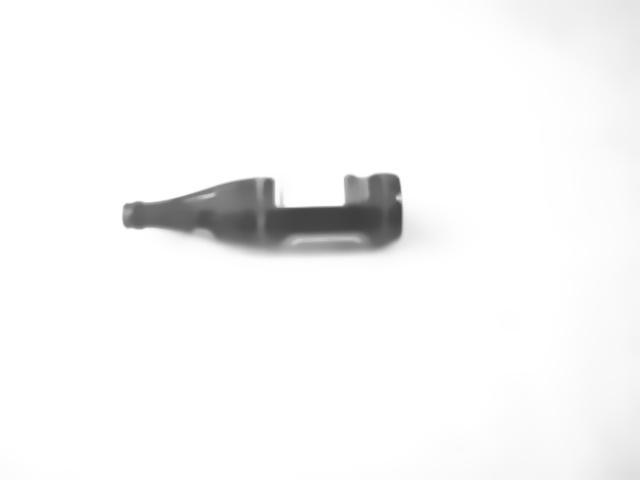Glass: (117, 173, 409, 257)
